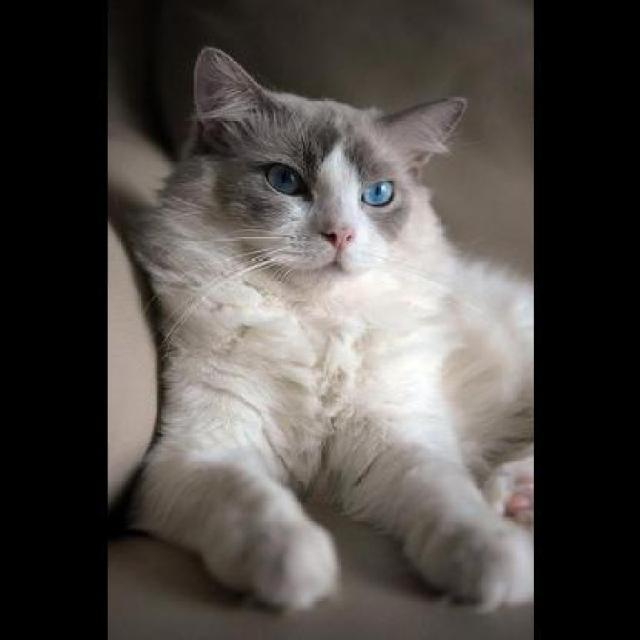unauthorized: (108, 43, 534, 617)
